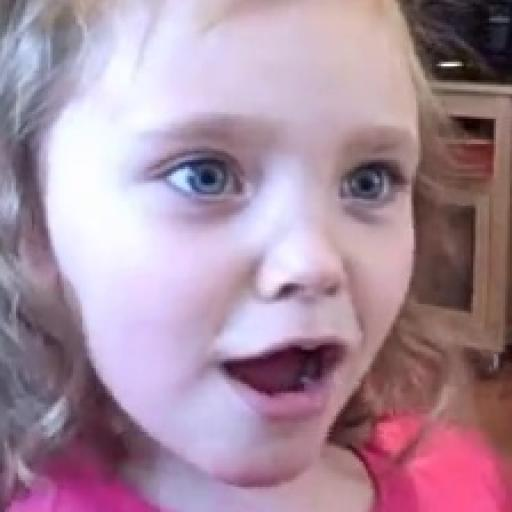Autism: (55, 0, 503, 512)
